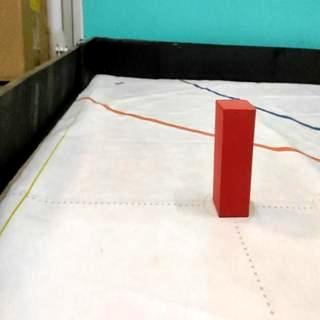redbox: (213, 98, 257, 219)
